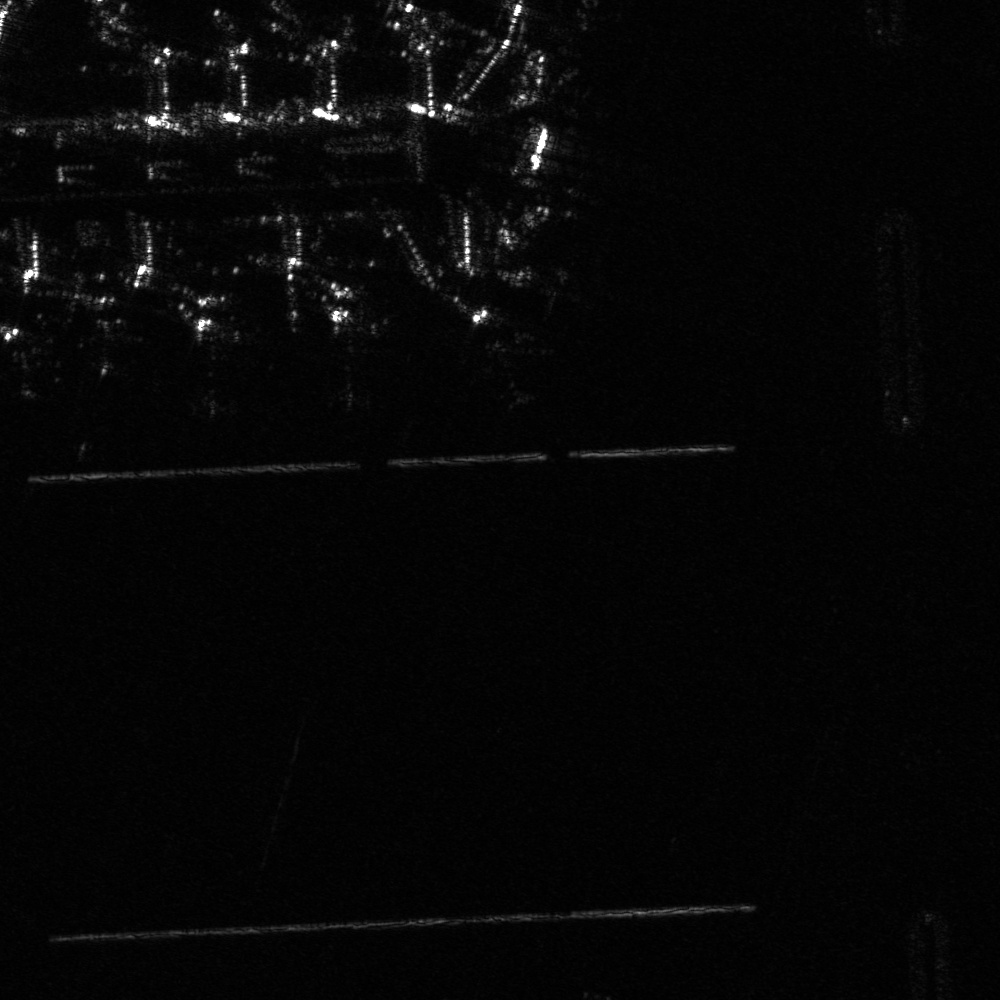A220: (63, 313, 150, 394)
Boeing737: (450, 296, 566, 417)
Boeing787: (159, 315, 276, 419)
other: (297, 300, 397, 409)
